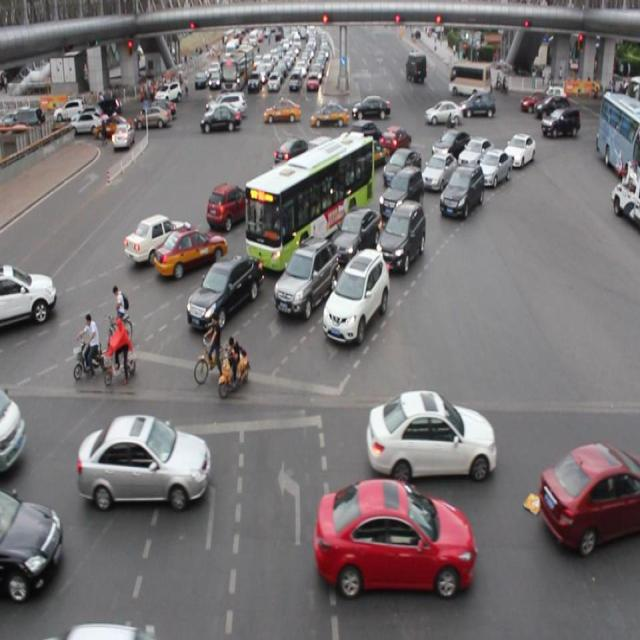car: (314, 480, 472, 594), (366, 390, 494, 480), (78, 416, 208, 504), (540, 441, 640, 542), (0, 486, 60, 596), (322, 247, 387, 340), (186, 254, 261, 329), (272, 241, 336, 321), (378, 198, 426, 271), (153, 229, 228, 274), (1, 264, 54, 322), (124, 215, 192, 260), (327, 206, 380, 259), (206, 182, 255, 228), (440, 162, 482, 214), (379, 168, 423, 216), (319, 152, 364, 194), (282, 176, 326, 217), (381, 147, 420, 192), (264, 161, 308, 197), (272, 136, 312, 173), (430, 127, 471, 162), (350, 135, 387, 170), (457, 136, 491, 173), (477, 150, 509, 188), (422, 153, 454, 191), (347, 118, 380, 152), (502, 133, 534, 168), (378, 125, 410, 158)
truck: (1, 386, 28, 469), (303, 135, 336, 168)
van: (244, 138, 374, 274)
